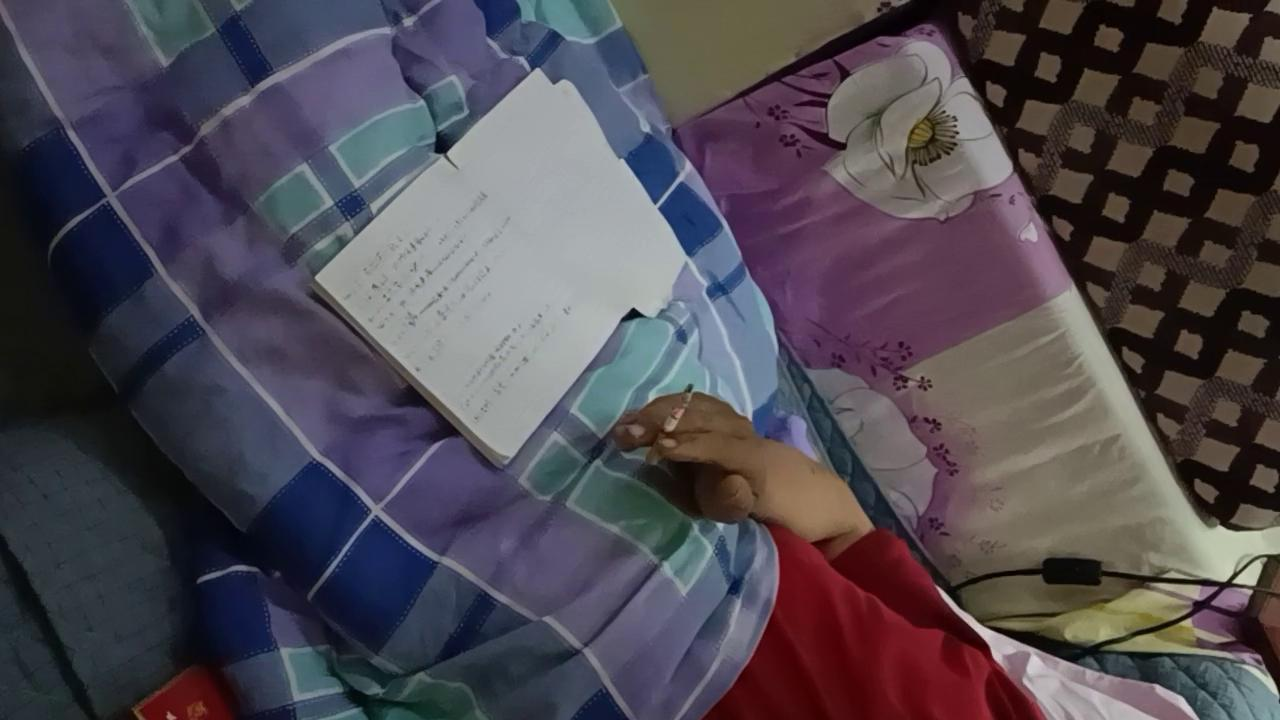smoke: (646, 383, 694, 466)
